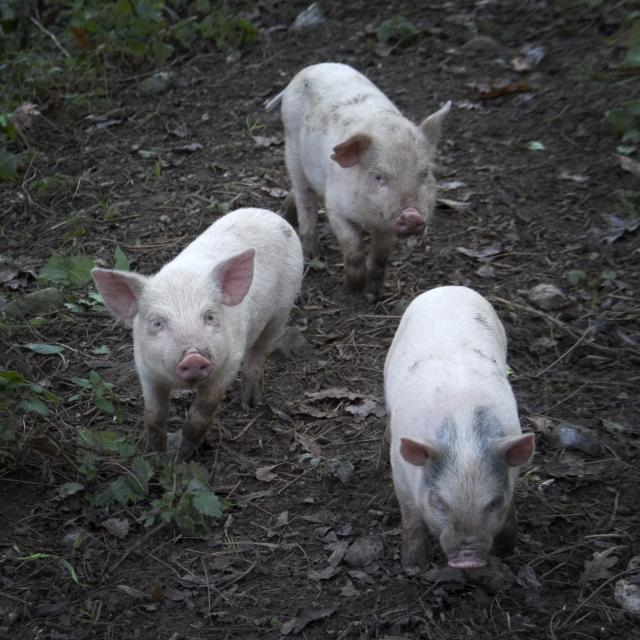pig: (91, 208, 307, 463), (265, 62, 453, 304), (383, 286, 535, 577)
